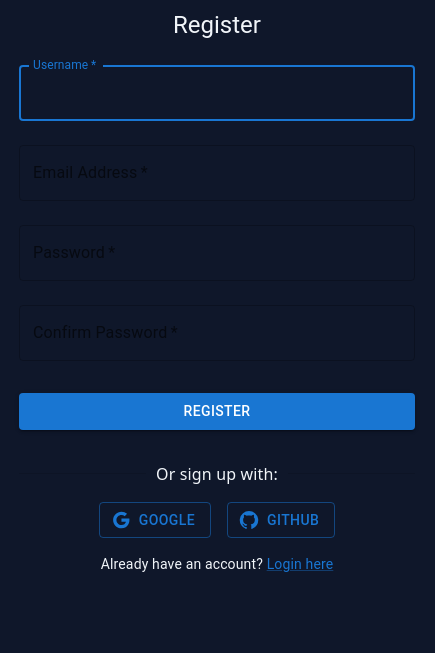
it: RegisterPage › surfaces the API failure when the API rejects with an Error with an empty message
This screenshot has width=435, height=653.
Type "Grace" into the field labelled "Username *" at (217, 93), box [19,65,415,121]
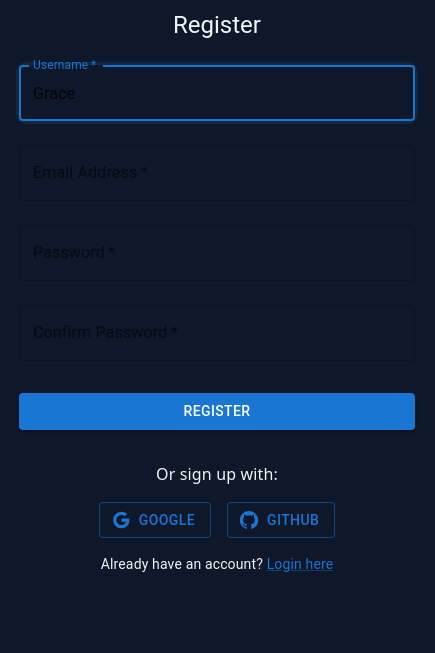
Type "grace@example.com" into the field labelled "Email Address *" at (217, 173), box [19,145,415,201]
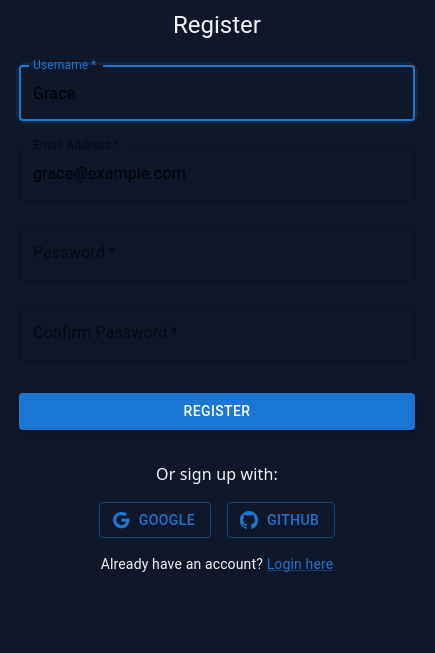
Type "pw-one" into the password field labelled "Password *" at (217, 253), box [19,225,415,281]
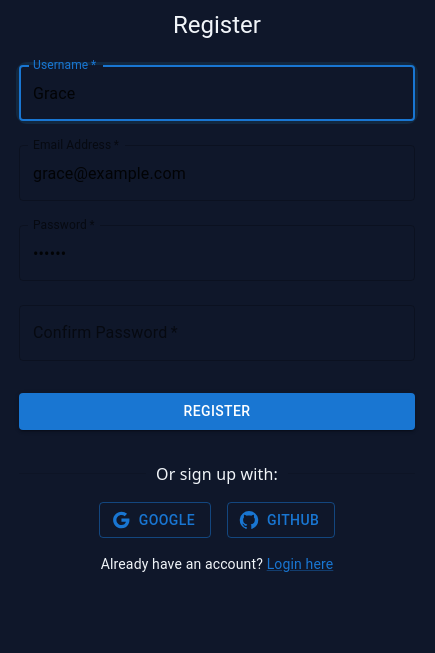
Type "pw-one" into the password field labelled "Confirm Password *" at (217, 333), box [19,305,415,361]
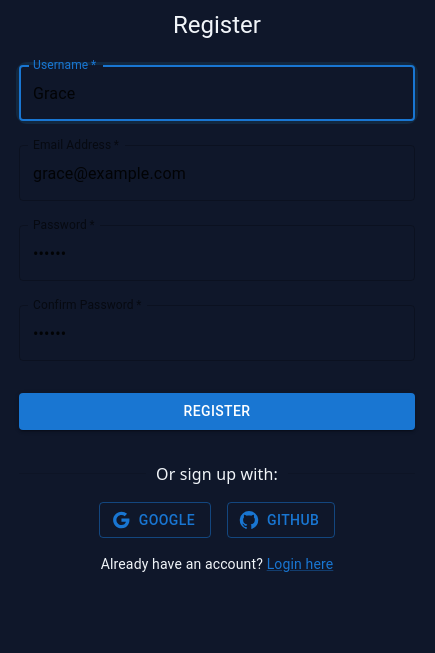
Click the button "Register" at (217, 411), box [19,393,415,430]
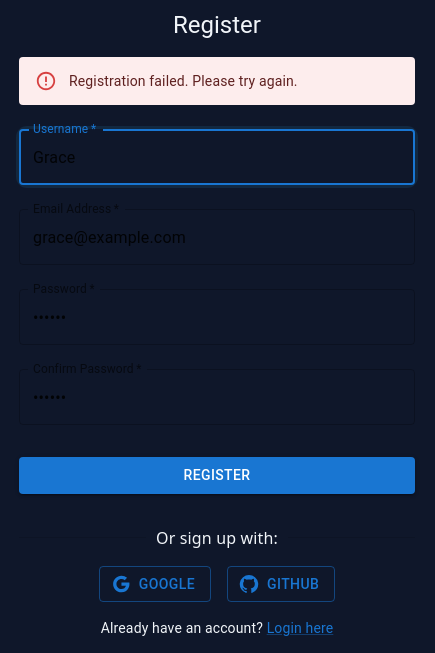
Result: the message reads "Registration failed. Please try again." at [69,73,298,89]
